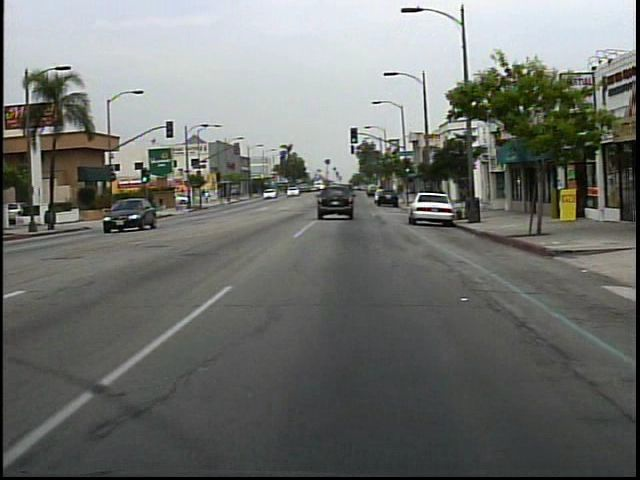person: (203, 188, 212, 207)
